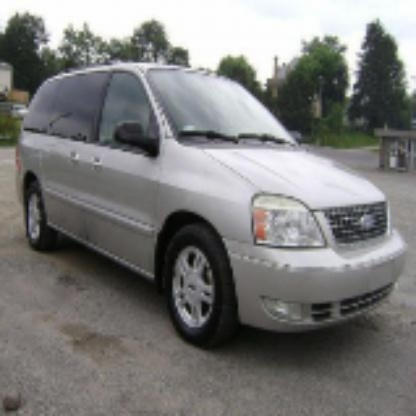Vehicle: (13, 57, 409, 351)
